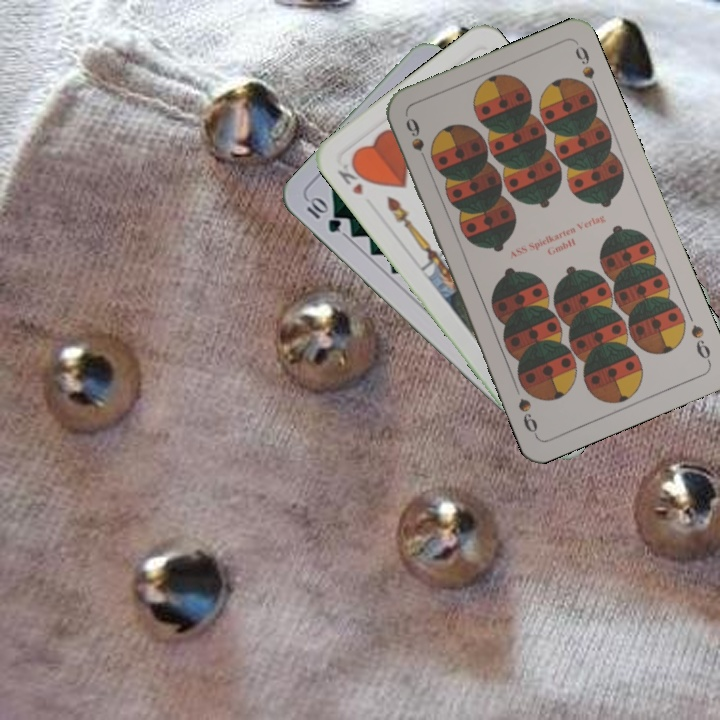G10: (302, 193, 344, 236)
HK: (333, 155, 371, 198)
S9: (401, 113, 432, 169), (687, 321, 714, 366)
